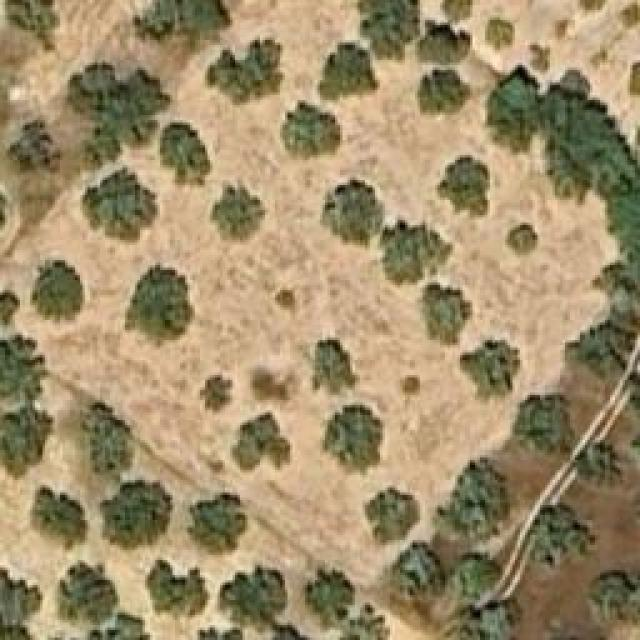Tree: (70, 62, 158, 160), (442, 460, 510, 548), (205, 40, 288, 108), (125, 265, 193, 348), (83, 168, 156, 241), (378, 220, 453, 285), (323, 405, 383, 475), (460, 337, 520, 405), (487, 70, 544, 141), (0, 402, 53, 478), (148, 558, 211, 621), (105, 483, 168, 546), (320, 180, 380, 245), (58, 560, 118, 625), (78, 403, 131, 476), (355, 0, 426, 54), (280, 103, 343, 163), (188, 493, 248, 556), (138, 0, 231, 40), (315, 40, 380, 97), (528, 507, 591, 565), (575, 323, 632, 386), (418, 0, 473, 65), (210, 183, 268, 243), (512, 395, 570, 455), (33, 488, 88, 551), (438, 155, 491, 218), (235, 412, 290, 470), (33, 260, 83, 323), (365, 487, 418, 545), (422, 283, 470, 346), (160, 125, 210, 185), (0, 565, 40, 640), (393, 545, 443, 605), (0, 335, 46, 400), (228, 570, 278, 628), (5, 0, 60, 50), (585, 575, 640, 625), (305, 573, 353, 628), (313, 335, 358, 393), (573, 442, 628, 488), (458, 600, 521, 640), (418, 70, 471, 113), (453, 553, 498, 603), (10, 118, 50, 171), (0, 293, 20, 368), (338, 610, 388, 640), (250, 365, 288, 403), (485, 17, 513, 55), (200, 375, 230, 410), (508, 225, 538, 253), (615, 5, 639, 27), (400, 375, 420, 395), (275, 290, 295, 308)
